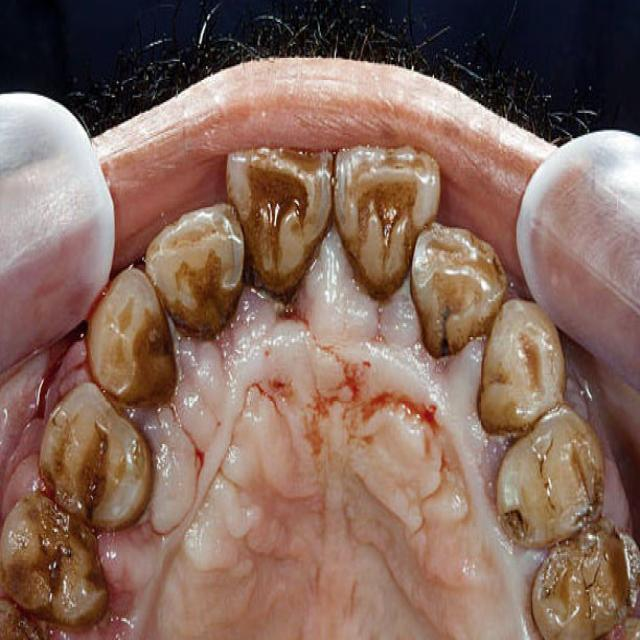caries: (528, 521, 639, 640), (63, 415, 118, 521), (12, 522, 75, 612), (566, 442, 610, 537), (427, 297, 477, 378), (496, 487, 542, 551)
